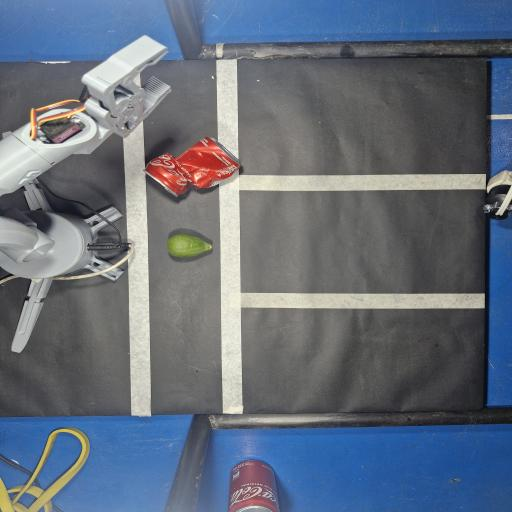higo: (167, 234, 211, 257)
lata_defectuoso: (145, 137, 240, 195)
